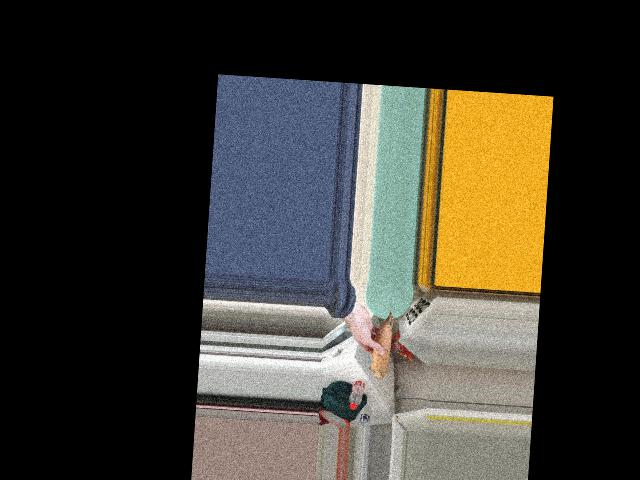sweet_potato: (369, 311, 398, 377)
